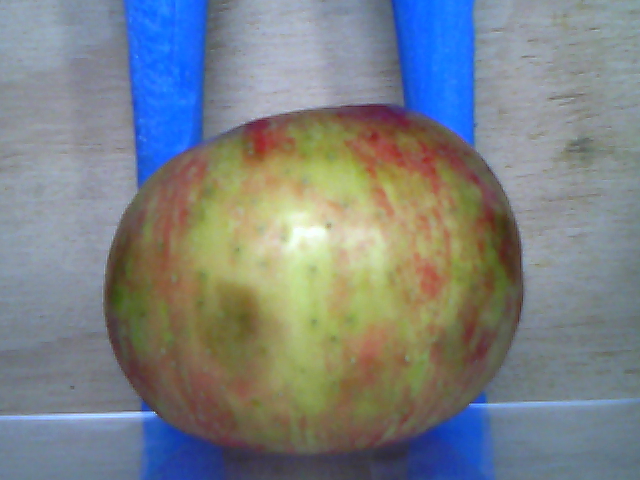bruise: (200, 284, 271, 373)
